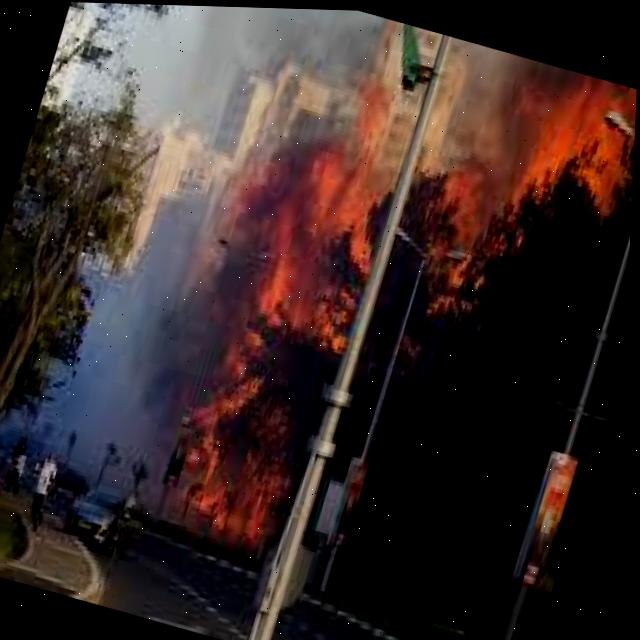fire: (167, 119, 384, 547), (509, 59, 633, 187)
smoke: (47, 222, 196, 516), (171, 5, 262, 134)
